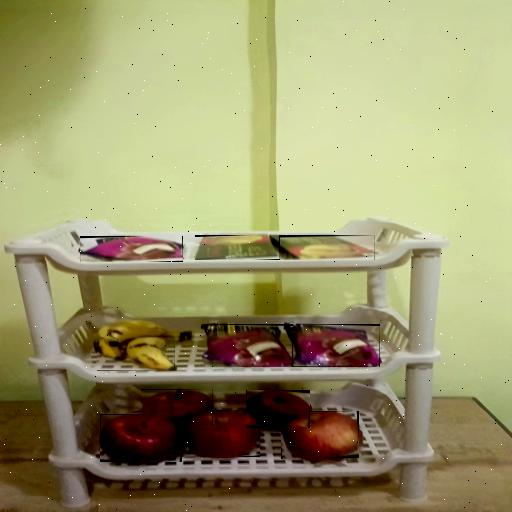Apple: (100, 414, 182, 462), (281, 412, 359, 460), (181, 410, 260, 457), (141, 389, 213, 425), (246, 390, 310, 428)
Choco Fills: (269, 235, 375, 260), (195, 235, 280, 260)
Choco Pie: (283, 324, 380, 367), (202, 324, 293, 367), (80, 236, 183, 262), (96, 337, 174, 371)
